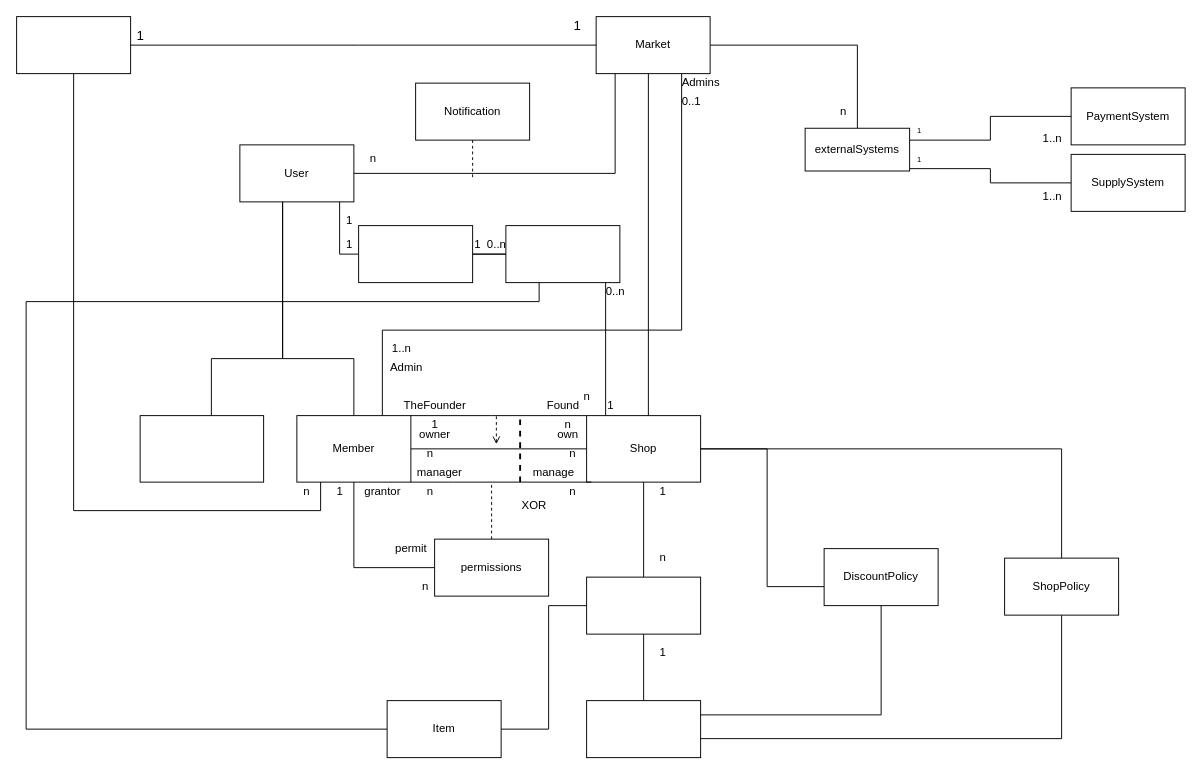
This 1202x774 diagram has some shape labels left out. Each missing label, with the centre of its shape:
"Guest" goes at pixel 201 448.
"MembersController" goes at pixel 73 45.
"ShoppingBag" goes at pixel 562 254.
"ShoppingCart" goes at pixel 415 254.
"Stock" goes at pixel 643 605.
"StockItem" goes at pixel 643 729.
